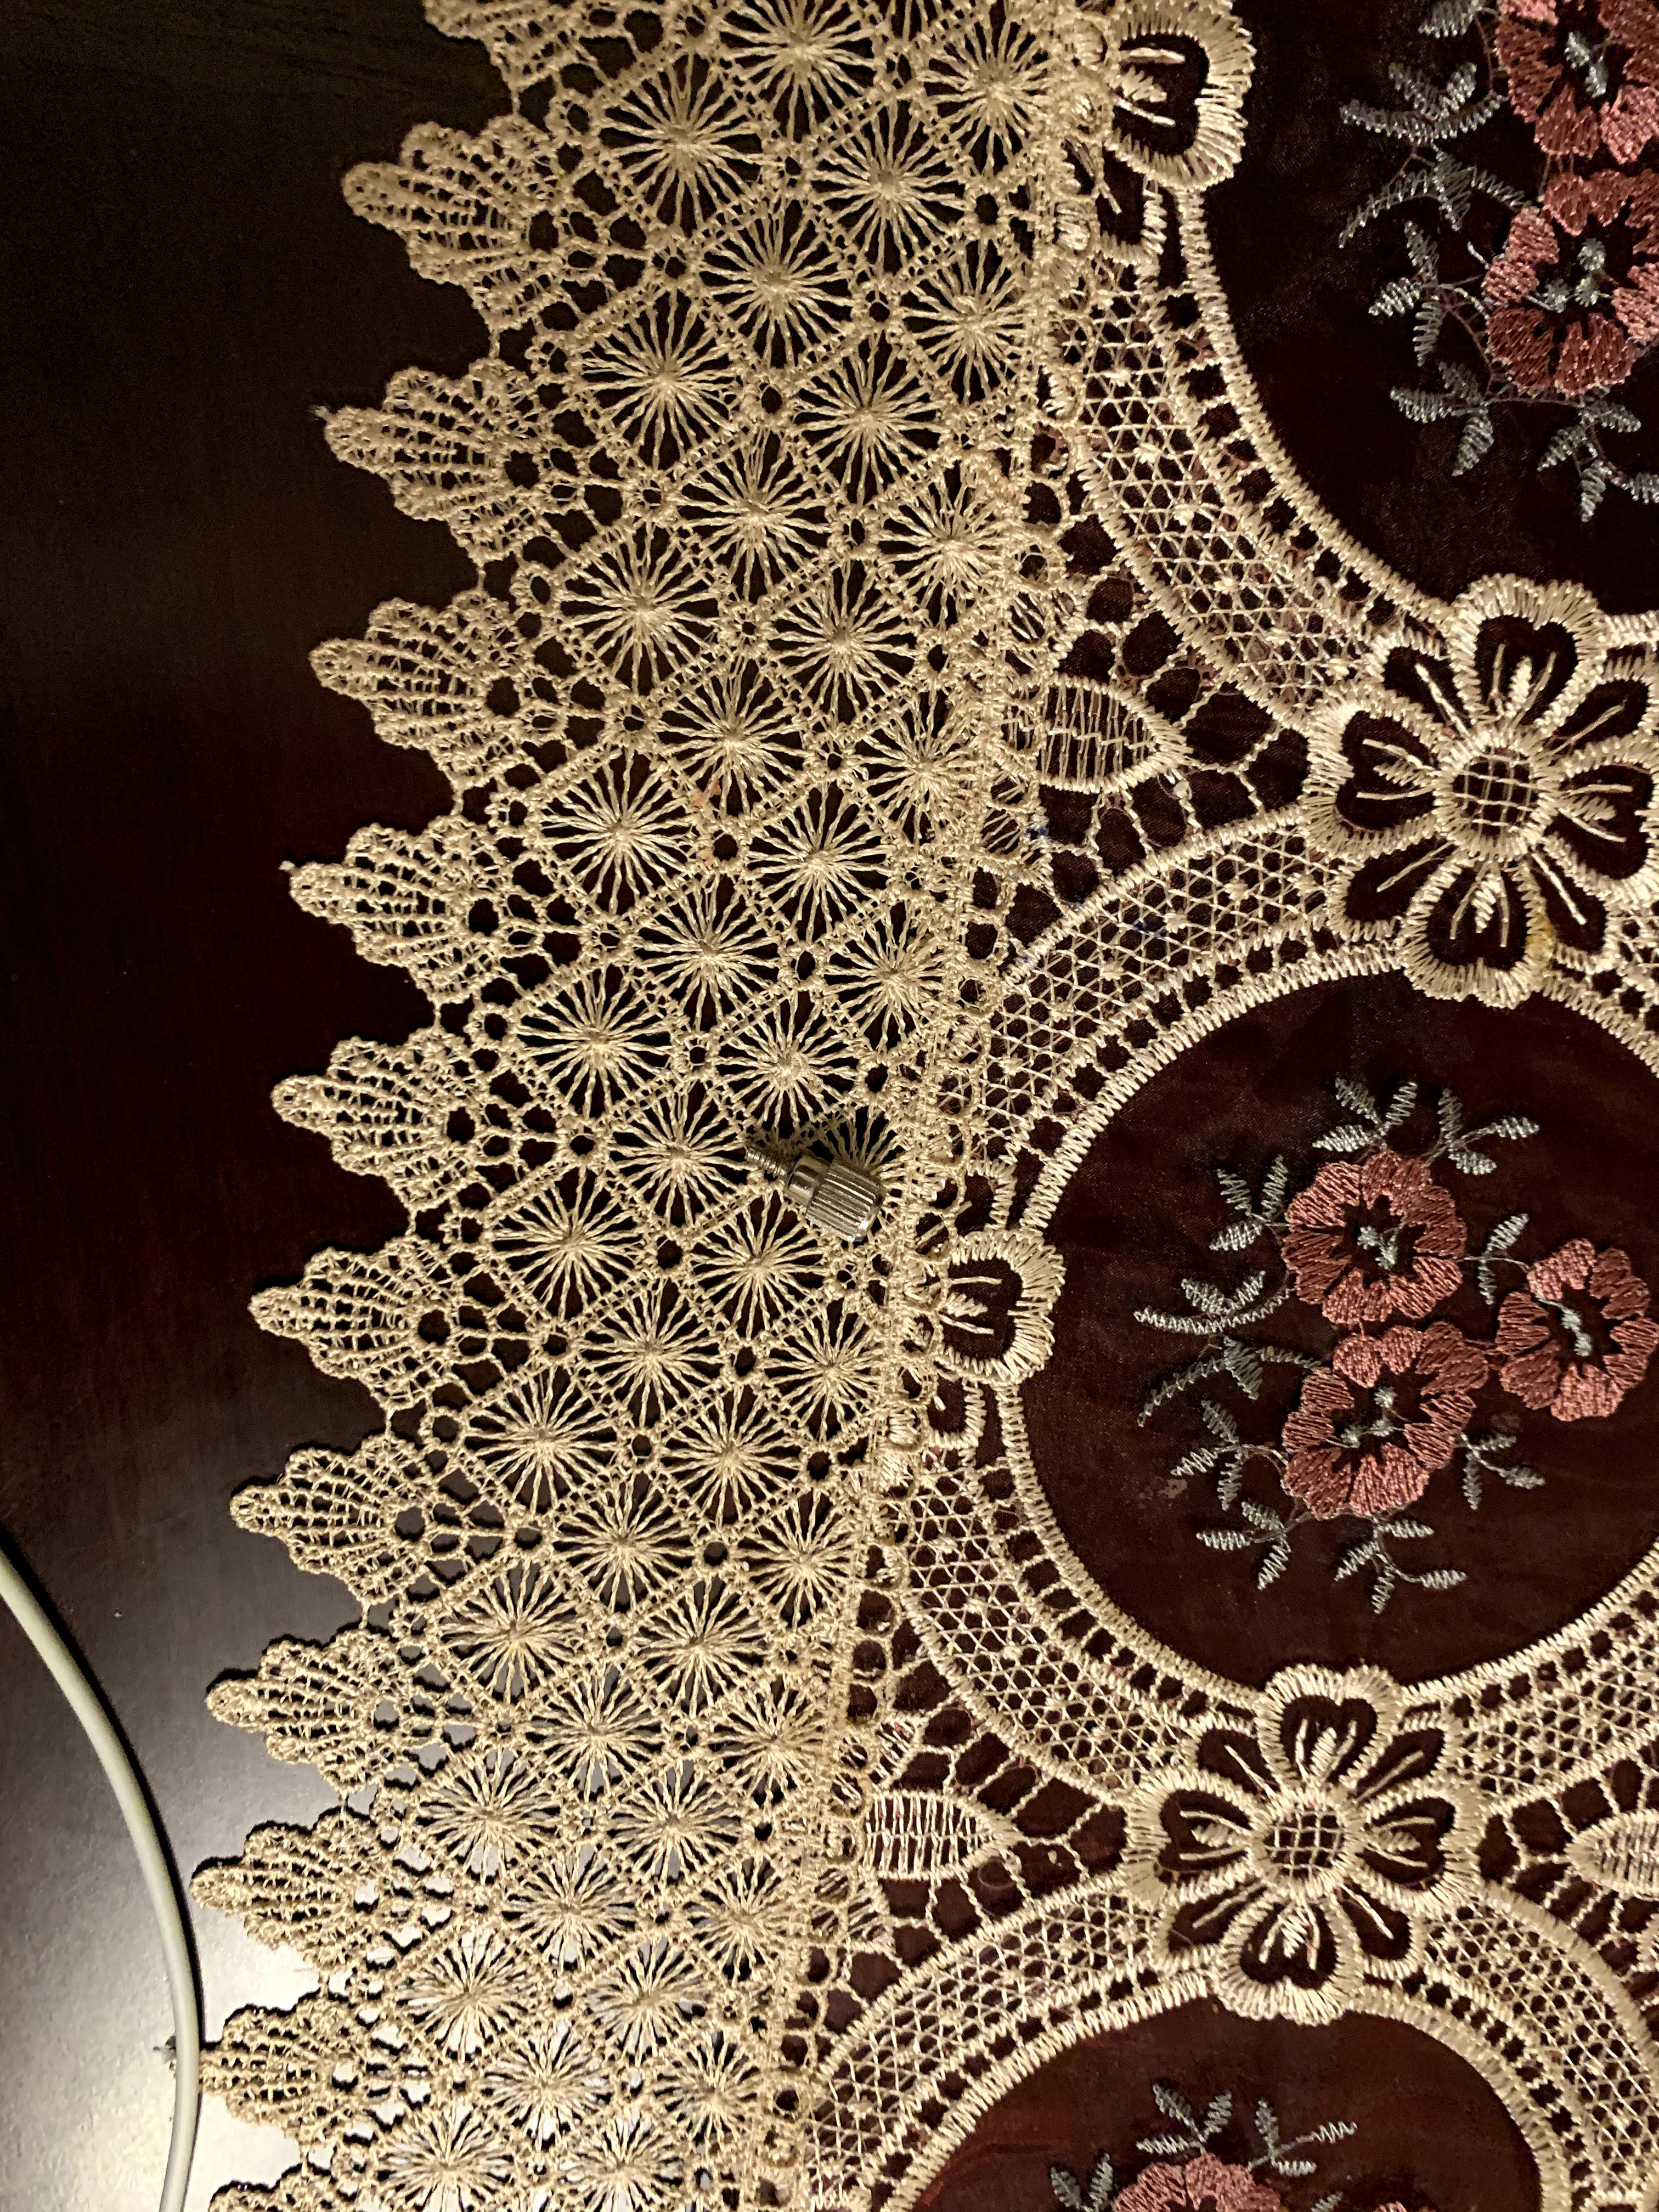Space-debris-small: (714, 1130, 906, 1251)
